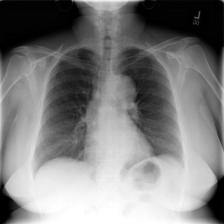normal: (29, 42, 188, 178)
